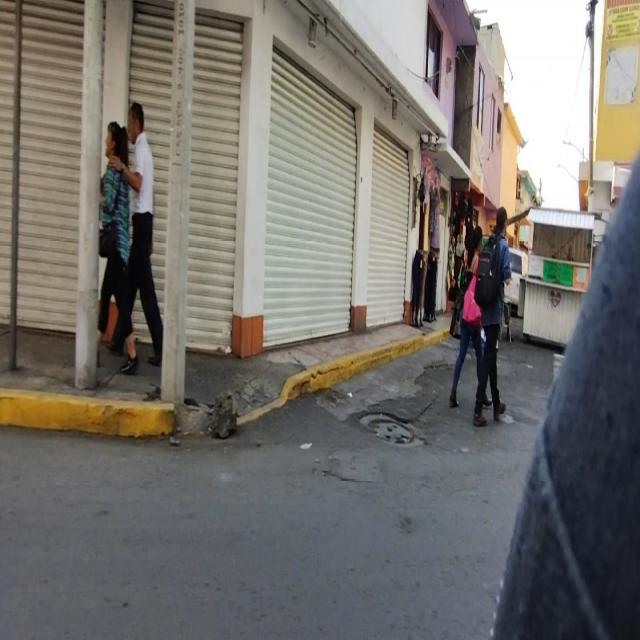adult: (110, 104, 167, 359), (95, 125, 136, 376), (473, 209, 511, 427), (450, 227, 489, 409)
